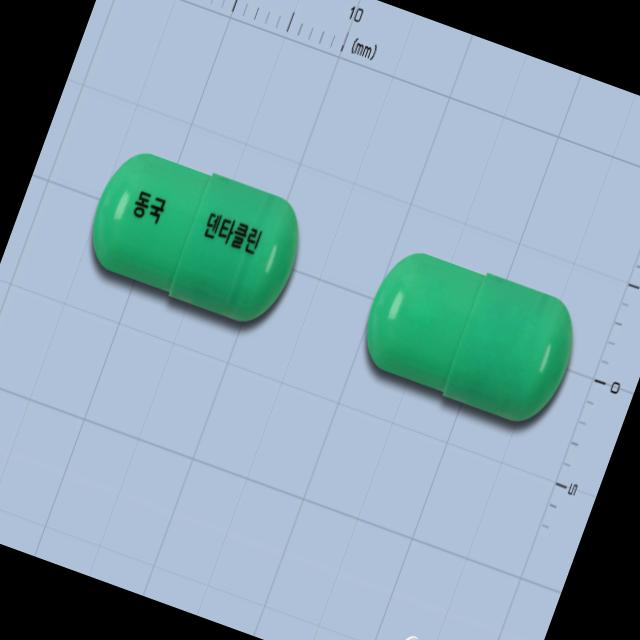Dentacline Cap: (76, 136, 316, 335)
